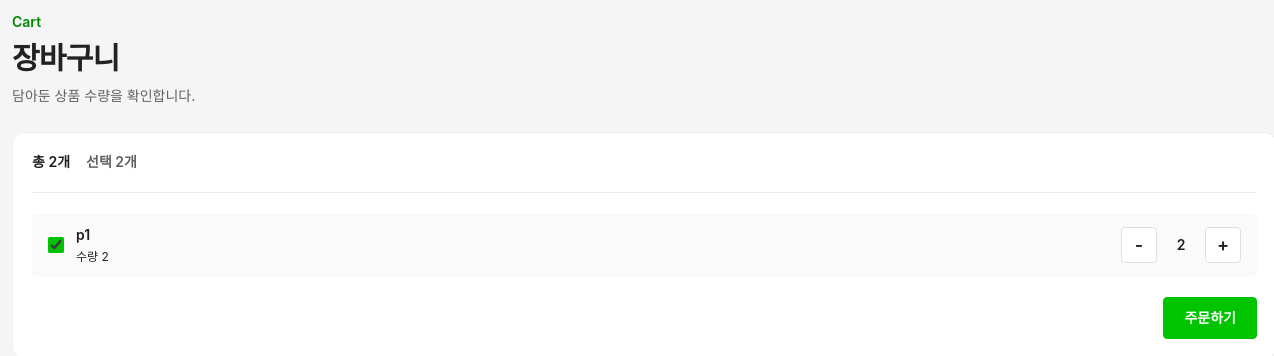
Scenario: CartPage › 상품 선택을 모두 해제하면 주문하기 링크를 숨긴다
Click the checkbox named "p1 주문 선택" at coordinates (56, 245), box [48,237,64,253]
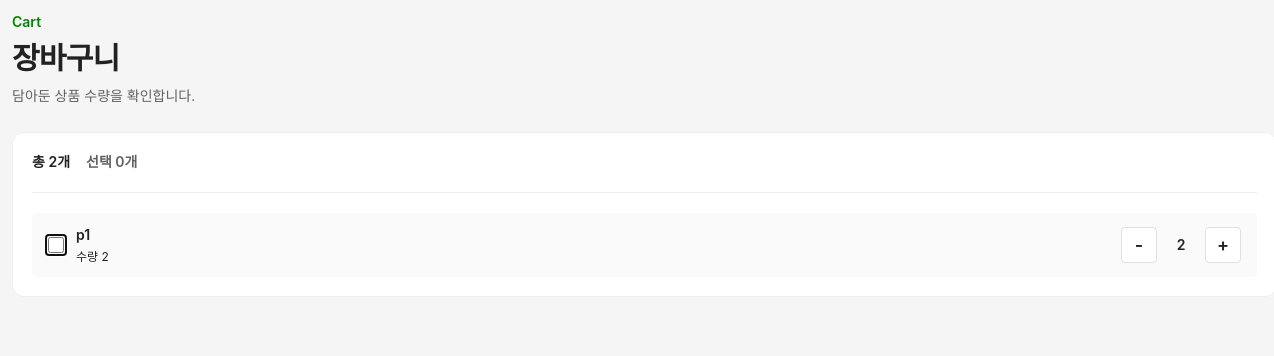
expect the checkbox named "p1 주문 선택" is not checked: met, box [48,237,64,253]
expect the text "선택 0개" is shown: met, box [86,152,137,172]
expect the link "주문하기" is gone: met
